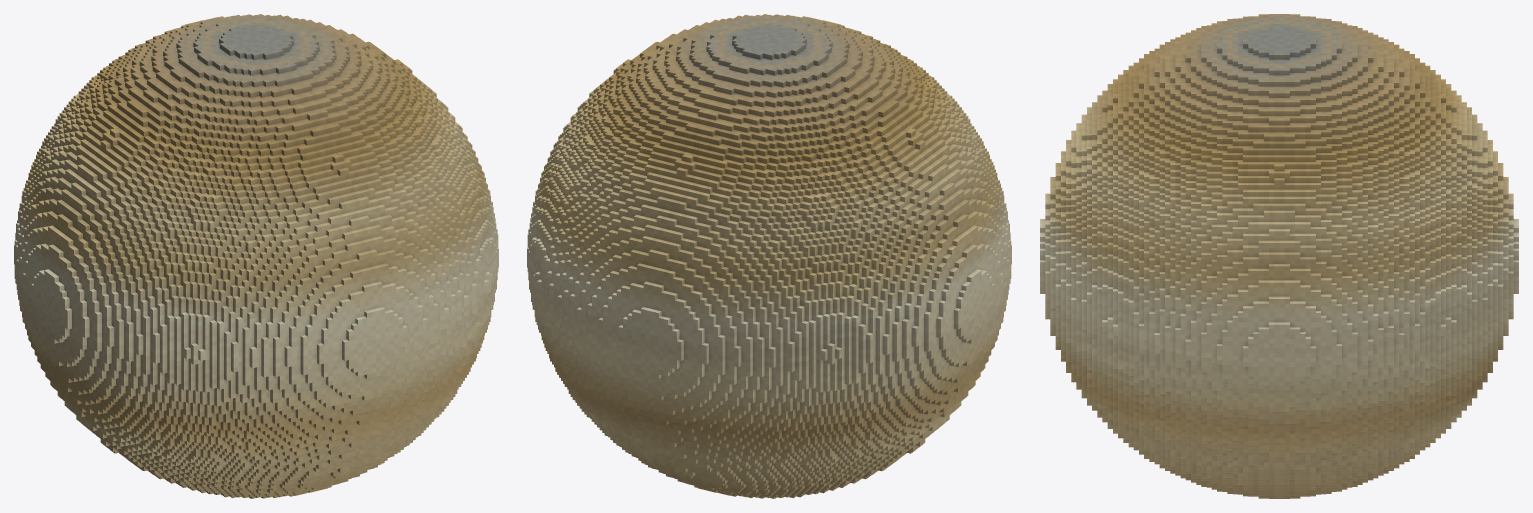
File: saturn_lod0.glb
3 views of the same model, side by side, from view 1: azimuth 30°, elevation 25°; view 2: azimuth 150°, elevation 25°; view 3: azimuth 270°, elevation 25° (orthographic).
Visible parts, largest first — view 1: saturn_lod0; view 2: saturn_lod0; view 3: saturn_lod0.
Part boxes in pixels (<box>): saturn_lod0: <box>14,14,498,498</box>; saturn_lod0: <box>527,14,1011,498</box>; saturn_lod0: <box>1040,14,1518,498</box>.
Bounding box in the file's own units: 2 × 2 × 2.
